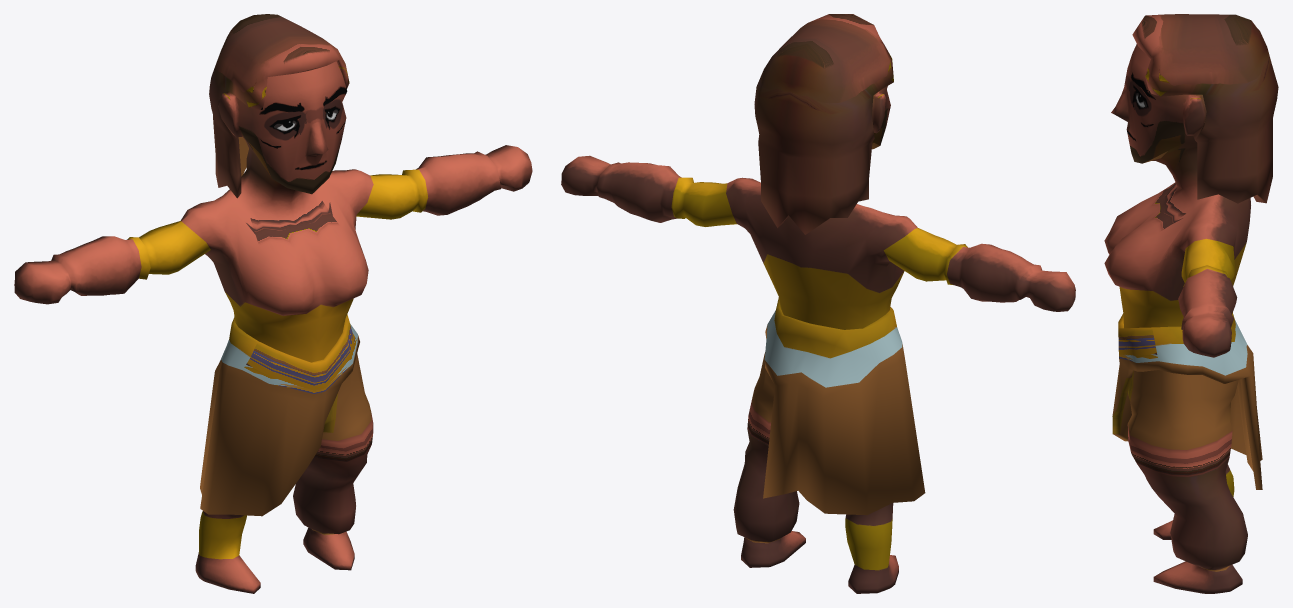
The model's file is Indian.fbx.
3 renders of one model, left to right at view 1: azimuth 30°, elevation 25°; view 2: azimuth 150°, elevation 25°; view 3: azimuth 270°, elevation 25°, orthographic.
Visible parts, largest first — view 1: Body_Low, Body_Low.002, Body_Low.001; view 2: Body_Low, Body_Low.002, Body_Low.001; view 3: Body_Low, Body_Low.001, Body_Low.002.
Part boxes in pixels (x1,y1,x2,y2): Body_Low: [14, 61, 532, 593]; Body_Low.002: [200, 314, 359, 516]; Body_Low.001: [209, 14, 349, 198]; Body_Low: [561, 86, 1075, 593]; Body_Low.002: [763, 297, 925, 515]; Body_Low.001: [754, 14, 893, 234]; Body_Low: [1104, 44, 1250, 593]; Body_Low.001: [1132, 14, 1278, 203]; Body_Low.002: [1112, 312, 1262, 489].
Size of the model in its own units: 4132 by 4123 by 1207.
